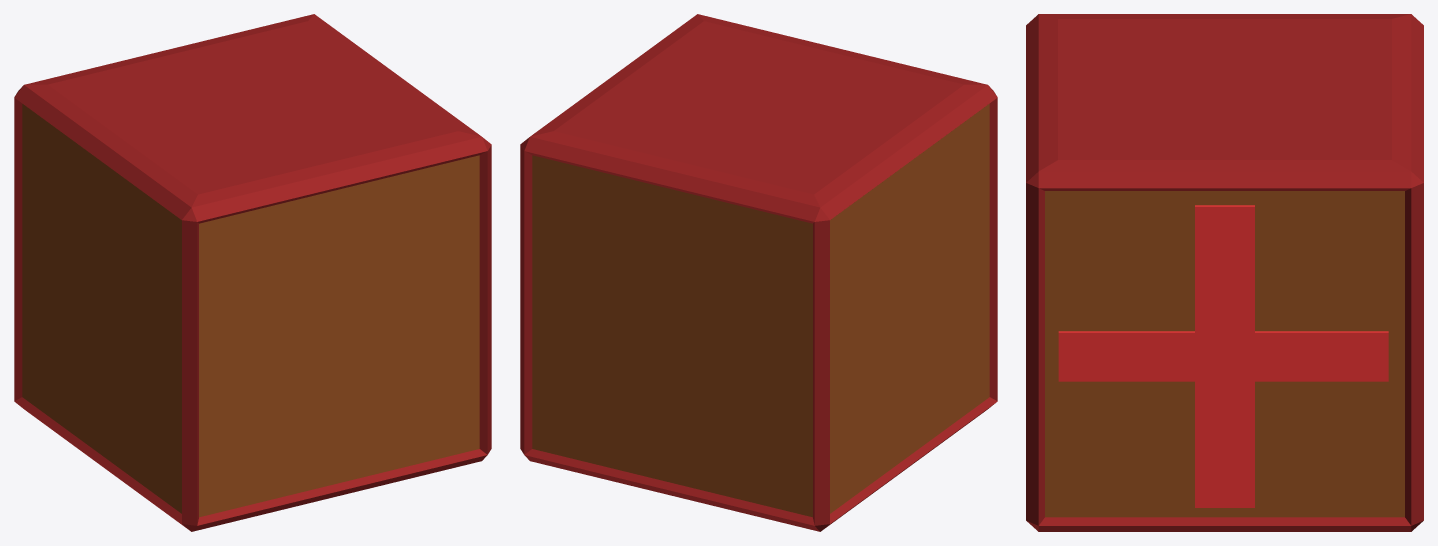
The model's file is model-destructable-wood-health-box.fbx.
3 renders of one model, left to right at view 1: azimuth 30°, elevation 25°; view 2: azimuth 150°, elevation 25°; view 3: azimuth 270°, elevation 25°, orthographic. The views are drawn at different scales.
Visible parts, largest first — view 1: mesh; view 2: mesh; view 3: mesh.
Boxes of the visible parts, box(x1,y1,x2,y2) form: mesh: box(14, 14, 491, 531); mesh: box(520, 14, 997, 531); mesh: box(1026, 14, 1423, 531).
Bounding box in the file's own units: 1.31 × 1.31 × 1.33.
